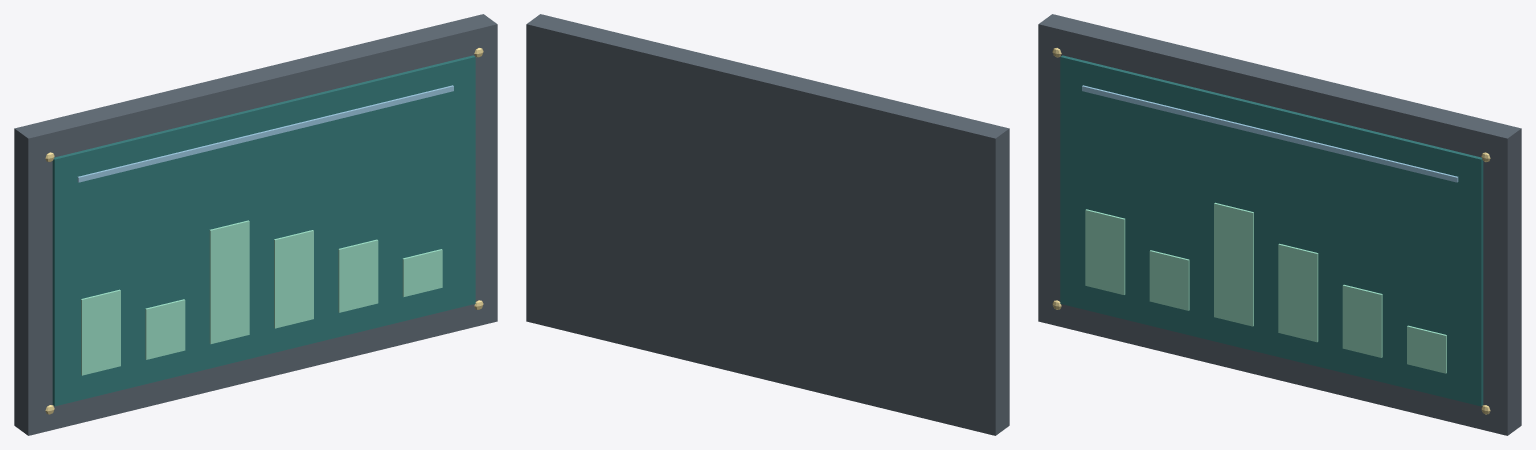
The model's file is monitor.glb.
The picture shows the model from 3 angles, left to right: view 1: azimuth 30°, elevation 25°; view 2: azimuth 150°, elevation 25°; view 3: azimuth 330°, elevation 25°; orthographic projection.
Visible parts, largest first — view 1: monitor; view 2: monitor; view 3: monitor.
Boxes of the visible parts, x1=… form: monitor: x1=14, y1=14, x2=497, y2=435; monitor: x1=526, y1=14, x2=1009, y2=435; monitor: x1=1038, y1=14, x2=1521, y2=435.
Size of the model in its own units: 3.5 by 2.12 by 0.2245.
